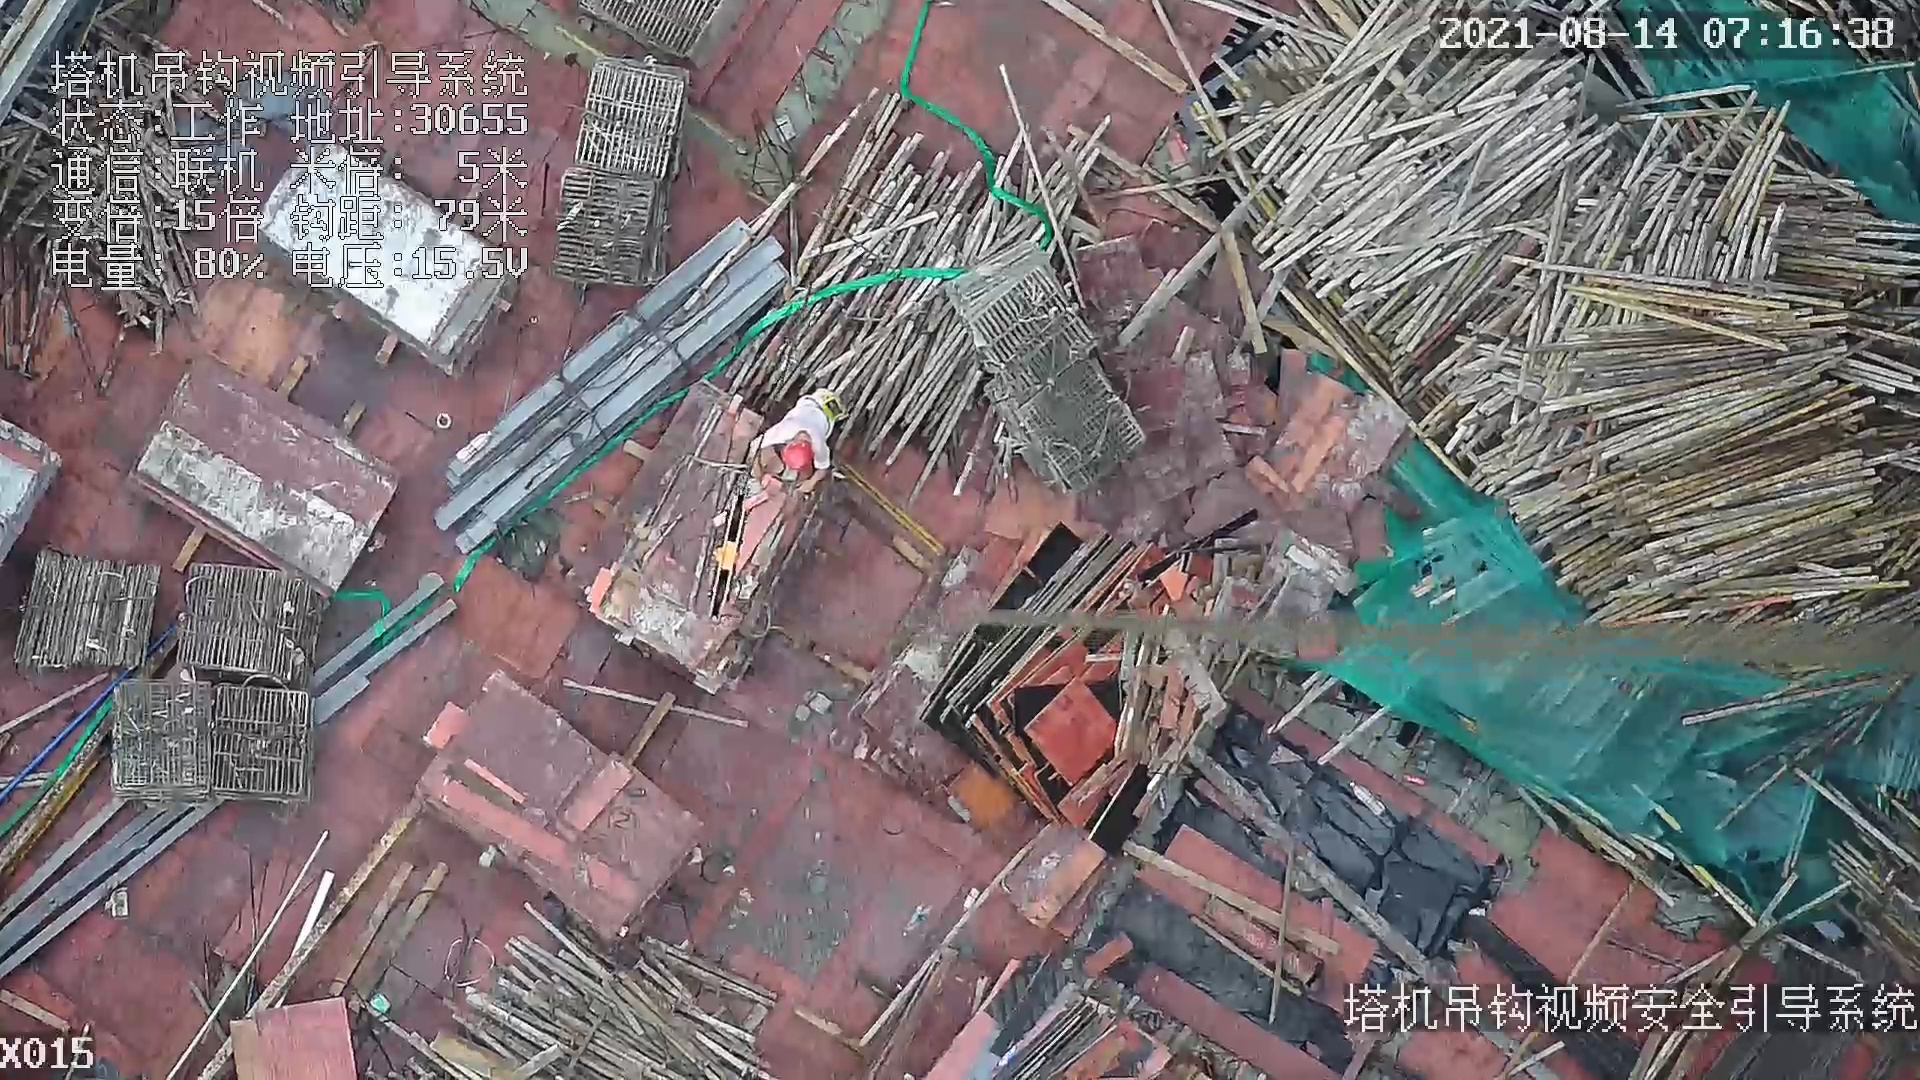helmet: (773, 428, 822, 480)
hook: (705, 486, 746, 623)
person: (753, 397, 851, 492)
